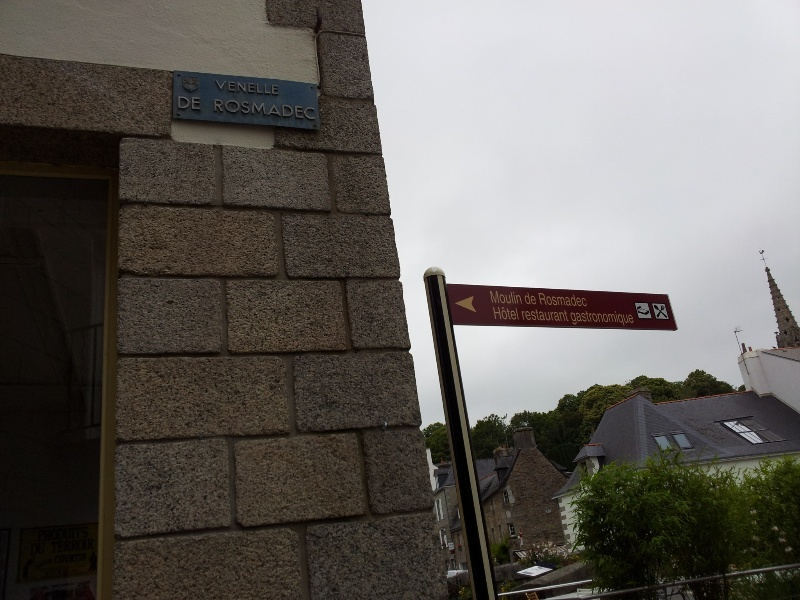text: (225, 98, 240, 122), (241, 98, 256, 122), (257, 98, 272, 122), (273, 98, 288, 122), (289, 98, 304, 122), (305, 98, 318, 122), (577, 309, 592, 327), (593, 309, 608, 327), (609, 309, 624, 327), (65, 538, 80, 556), (81, 538, 96, 556), (213, 98, 224, 122), (49, 526, 64, 543), (65, 526, 80, 543), (497, 304, 512, 320), (497, 289, 512, 305), (49, 552, 64, 568), (65, 552, 80, 568), (33, 541, 47, 558), (51, 538, 64, 556), (225, 80, 240, 95), (241, 80, 256, 95), (257, 80, 272, 95), (545, 292, 560, 307), (561, 292, 576, 307), (178, 95, 192, 110), (36, 526, 48, 543), (529, 309, 544, 322), (545, 309, 560, 322), (81, 526, 91, 543), (577, 292, 588, 307), (567, 309, 576, 327), (625, 309, 634, 327), (513, 289, 523, 305), (40, 552, 48, 568), (81, 552, 89, 568), (529, 292, 538, 306), (216, 80, 224, 95), (273, 80, 281, 95), (193, 95, 201, 110), (561, 309, 570, 322), (513, 304, 520, 320), (489, 289, 496, 305), (538, 292, 544, 307), (522, 309, 528, 322), (492, 304, 496, 320), (524, 292, 528, 306), (31, 541, 32, 558)
